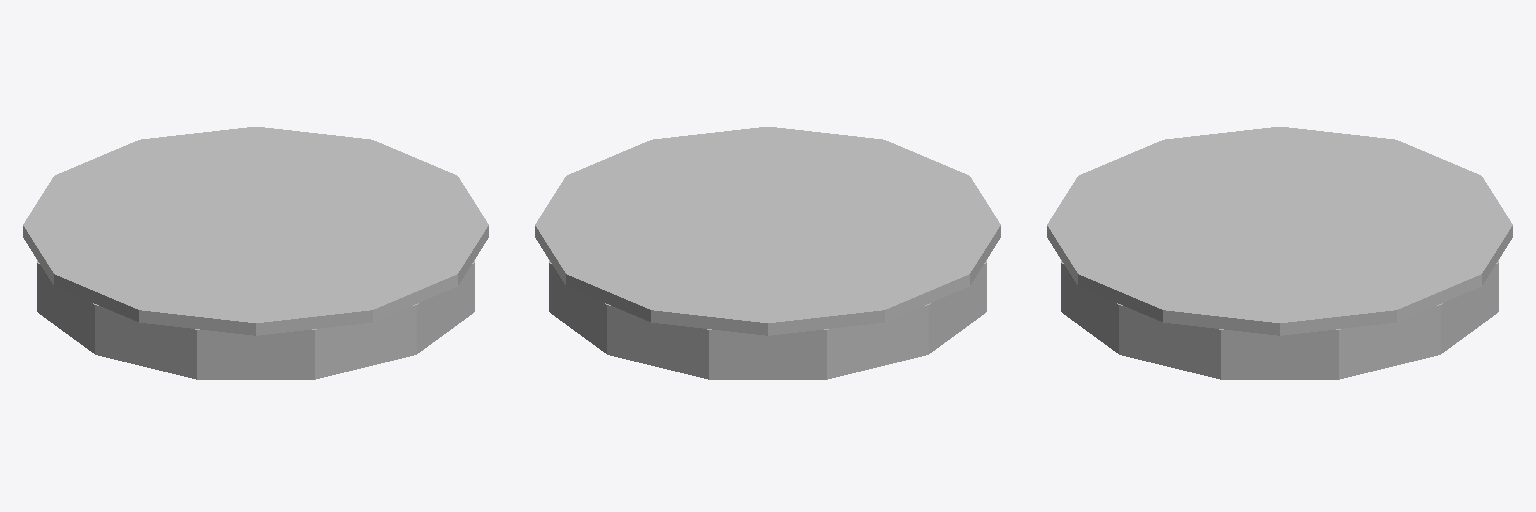
File: Stage 7.obj
The picture shows the model from 3 angles: view 1: azimuth 30°, elevation 25°; view 2: azimuth 150°, elevation 25°; view 3: azimuth 270°, elevation 25°; orthographic projection.
Visible parts, largest first — view 1: cylinder; view 2: cylinder; view 3: cylinder.
Part boxes in pixels (x1,y1,x2,y2): cylinder: (23,127,488,379); cylinder: (535,127,1000,379); cylinder: (1047,127,1512,379).
Size of the model in its own units: 1.06 by 0.1562 by 1.06.